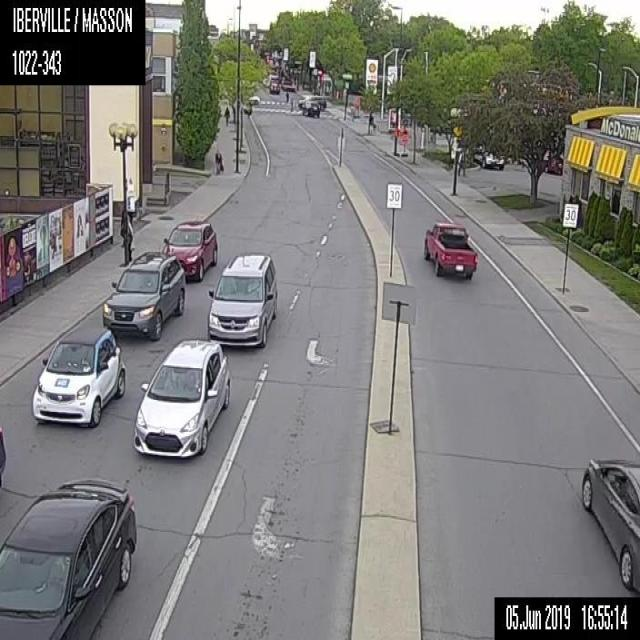construction: (393, 126, 409, 158)
pedestrian: (119, 208, 133, 263), (214, 147, 224, 173), (366, 110, 376, 134), (223, 105, 229, 126), (288, 95, 294, 112), (284, 90, 289, 102)
vehicle: (0, 477, 135, 638), (132, 337, 232, 459), (31, 321, 126, 427), (581, 457, 639, 596), (102, 249, 186, 340), (206, 251, 278, 348), (162, 218, 217, 281), (423, 219, 476, 281), (472, 143, 503, 170), (298, 94, 326, 110), (0, 424, 7, 488), (300, 99, 320, 117), (267, 80, 279, 93), (248, 94, 259, 105)
